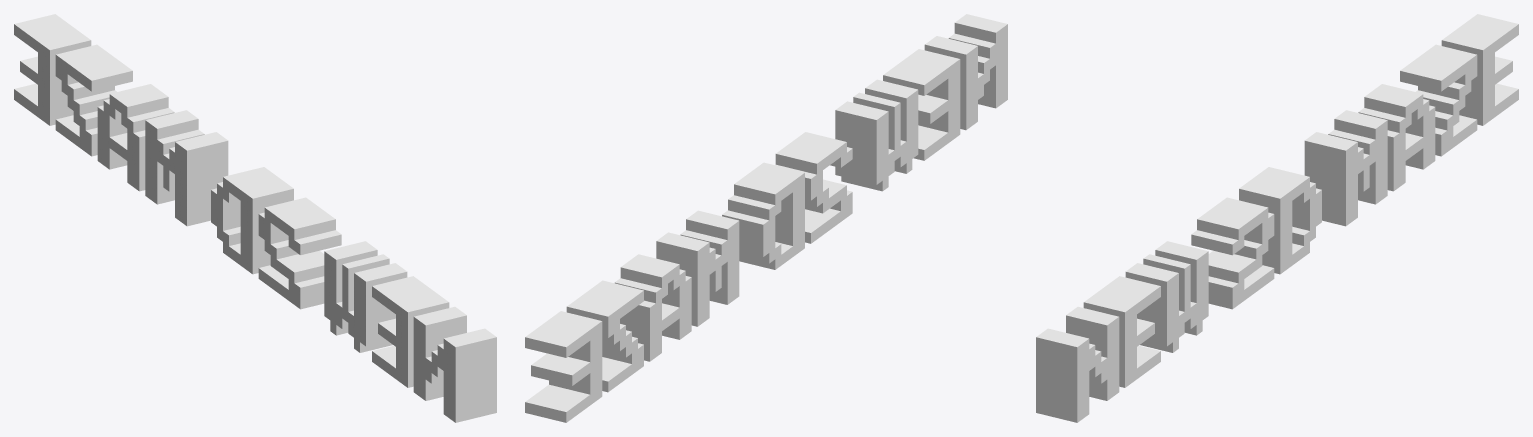
Rendered from new_2d_maze.glb.
3 views of the same model, side by side, from view 1: azimuth 30°, elevation 25°; view 2: azimuth 150°, elevation 25°; view 3: azimuth 330°, elevation 25° (orthographic).
Parts seen in each view (by area): view 1: Mesh_3; view 2: Mesh_3; view 3: Mesh_3.
Boxes of the visible parts, <box> form: Mesh_3: <box>14,14,496,422</box>; Mesh_3: <box>525,14,1007,422</box>; Mesh_3: <box>1036,14,1518,422</box>.
Bounding box in the file's own units: 4 × 7 × 74.
Materials: 1 (1 with a texture image).
